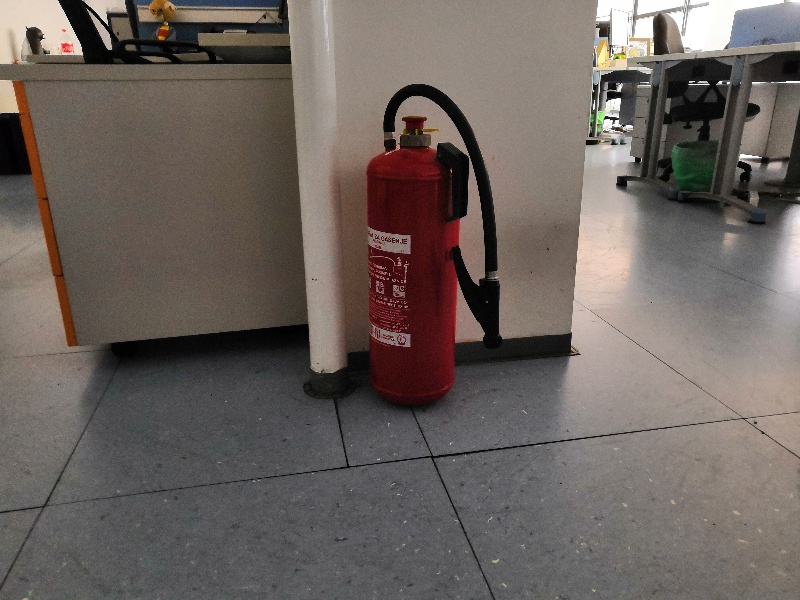vataparat: (366, 84, 504, 410)
